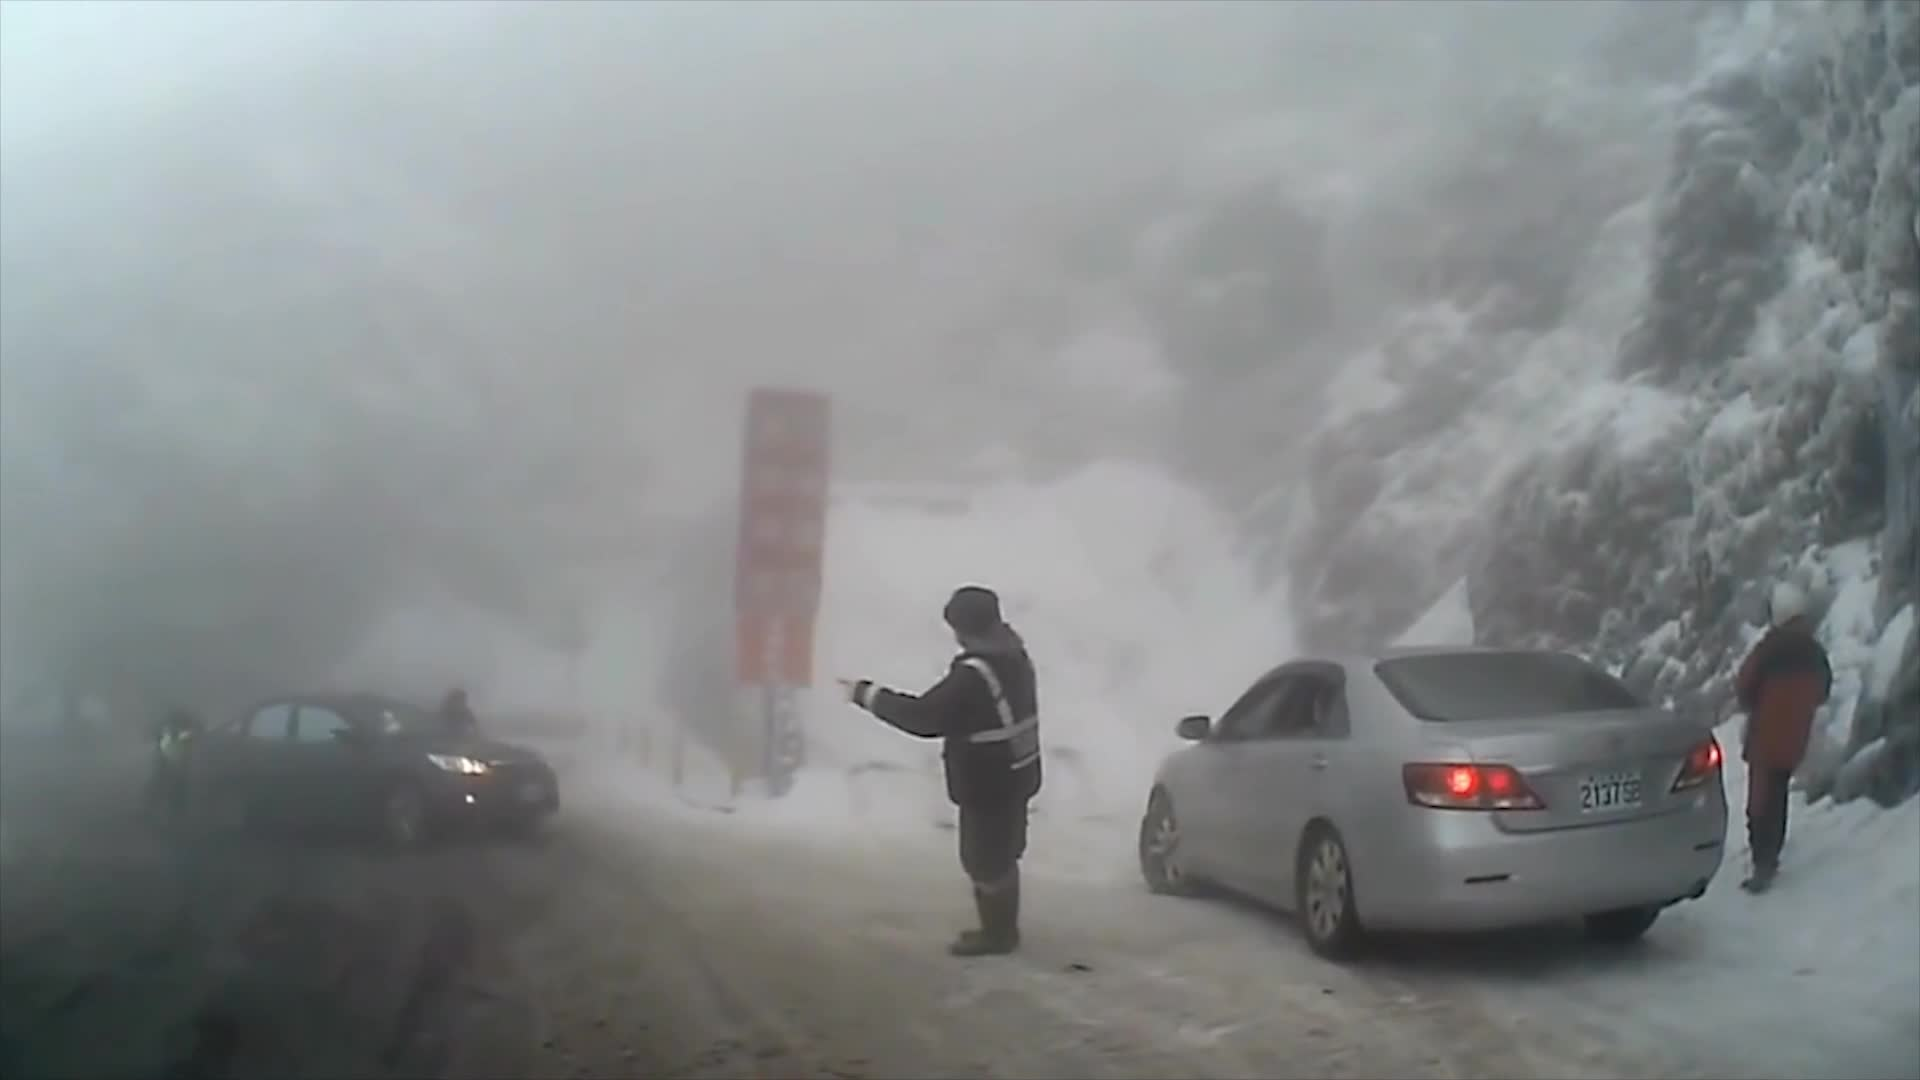pedestrian: (845, 584, 1042, 956), (1733, 583, 1829, 899)
vehicle: (1135, 641, 1726, 958), (183, 690, 560, 852)
